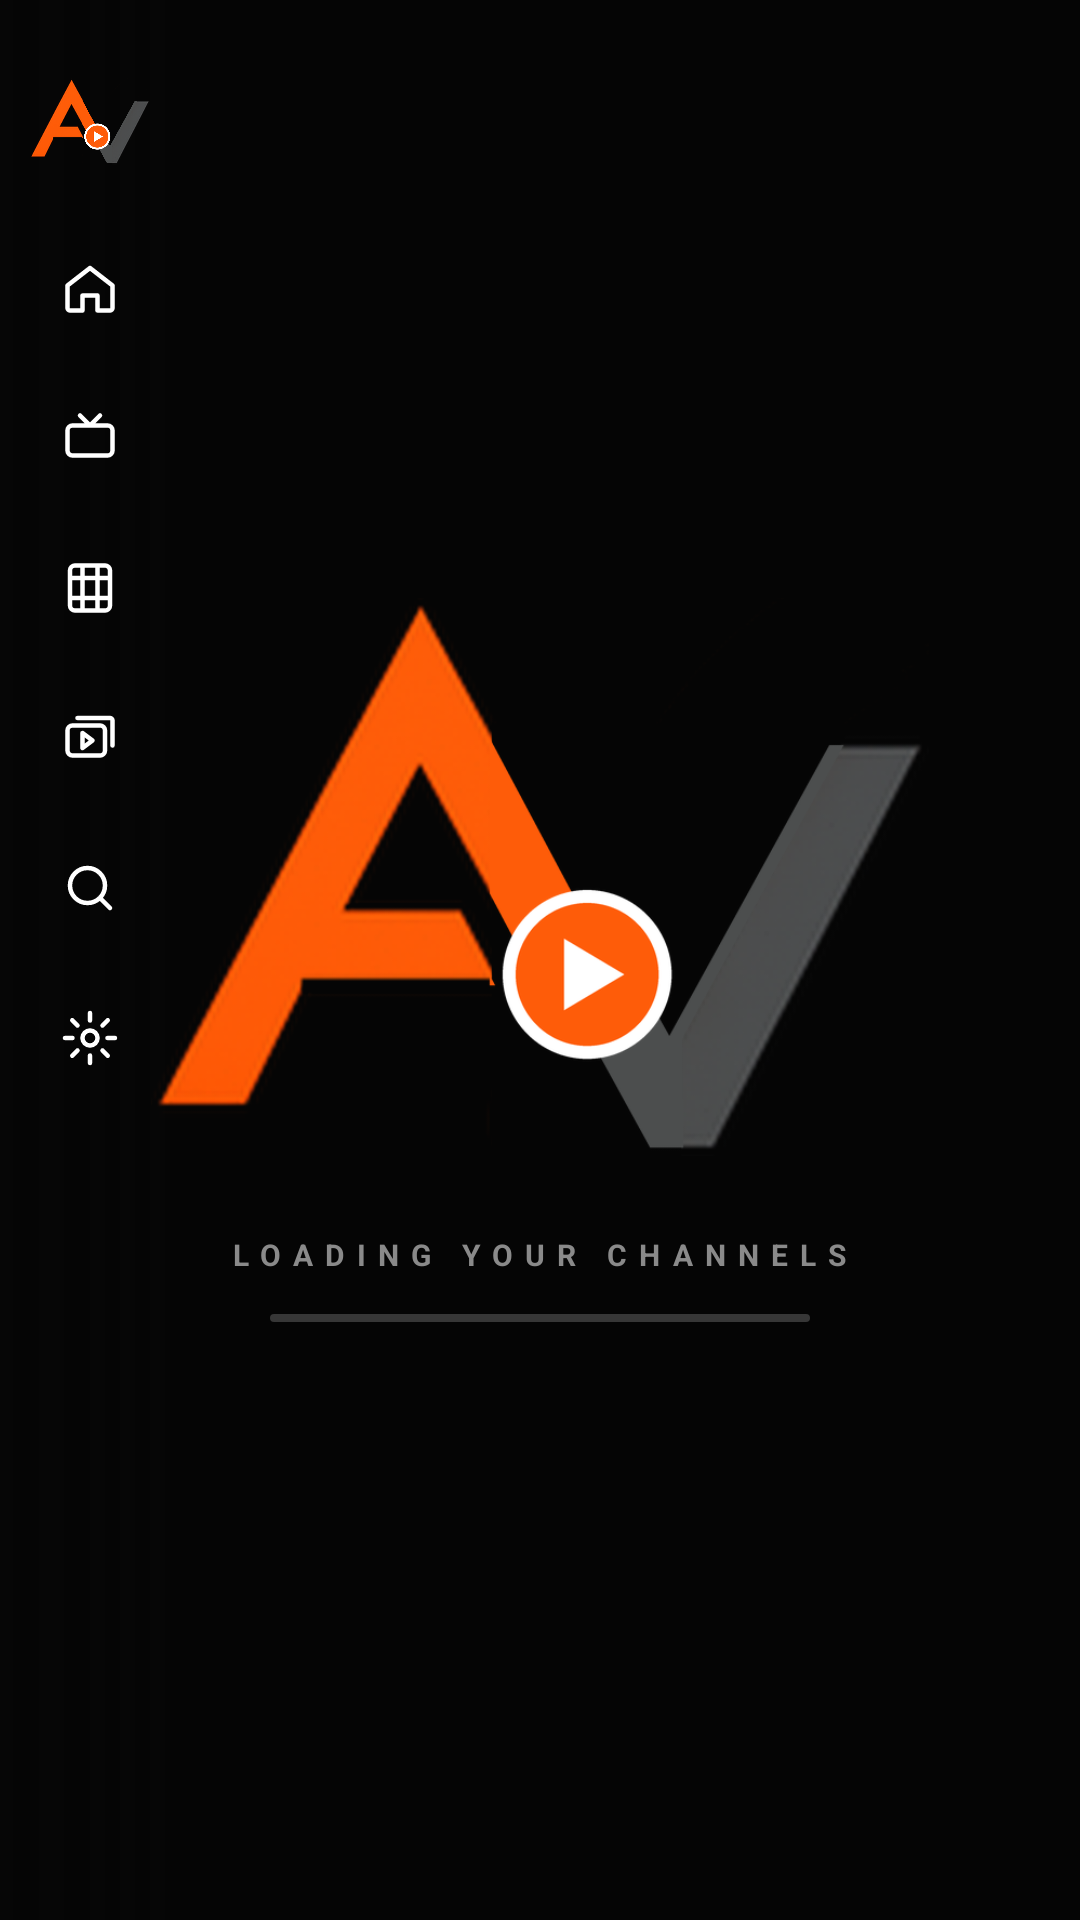

Named icons in this screenshot (1080px x 1920px) and their centers, (x=x, y=y):
Home: (x=90, y=289)
Live TV: (x=90, y=435)
Movies: (x=90, y=588)
Search: (x=90, y=888)
Series: (x=90, y=736)
